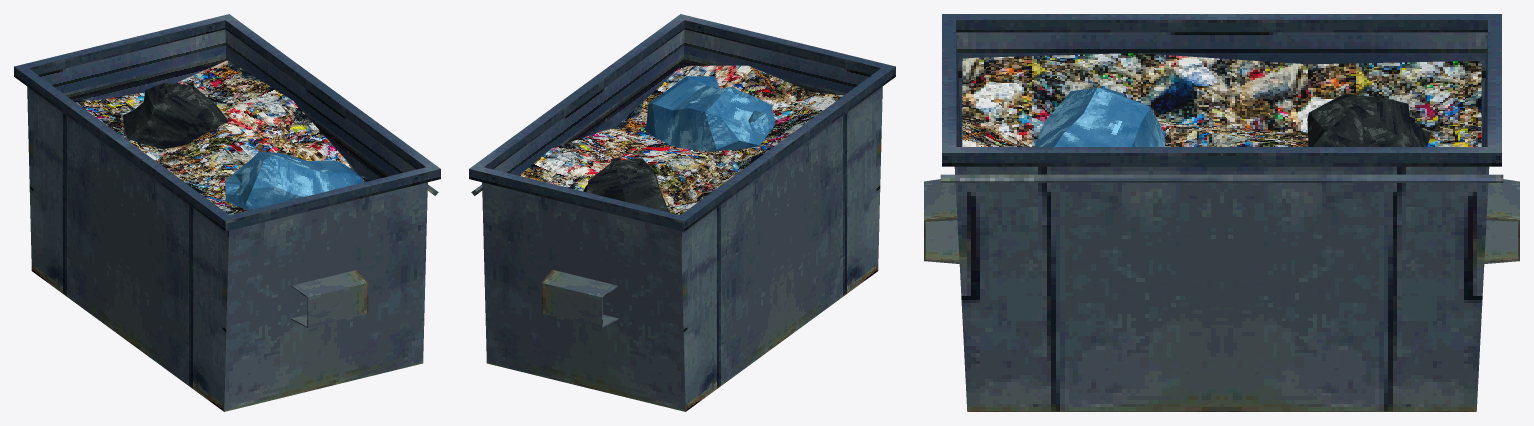
File: dumpster_full_no_lid_blue.glb
3 views of the same model, side by side, from view 1: azimuth 30°, elevation 25°; view 2: azimuth 150°, elevation 25°; view 3: azimuth 270°, elevation 25° (orthographic). The views are drawn at different scales.
Visible parts, largest first — view 1: dumpster_full_no_lid_blue; view 2: dumpster_full_no_lid_blue; view 3: dumpster_full_no_lid_blue.
Part boxes in pixels (bbox=[...]): dumpster_full_no_lid_blue: bbox=[14, 14, 440, 411]; dumpster_full_no_lid_blue: bbox=[469, 14, 895, 411]; dumpster_full_no_lid_blue: bbox=[924, 14, 1519, 411].
Size of the model in its own units: 2.03 by 1.8 by 3.67.
3 materials, 3 textured.
